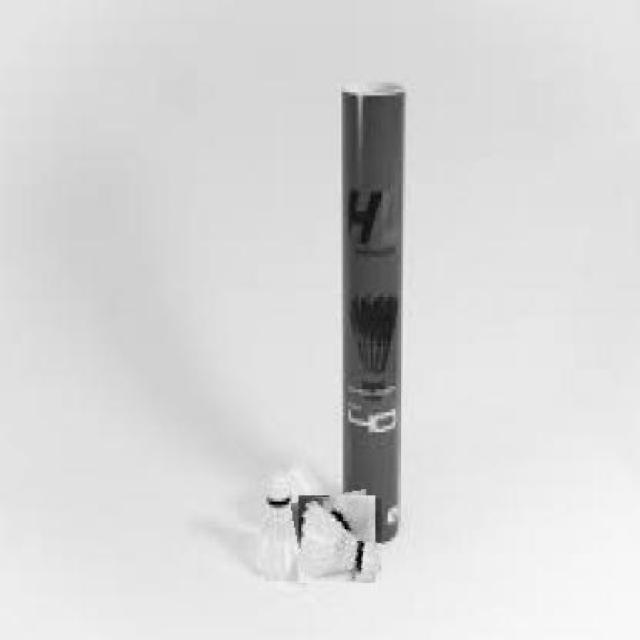Shuttlecock: (297, 499, 380, 580)
